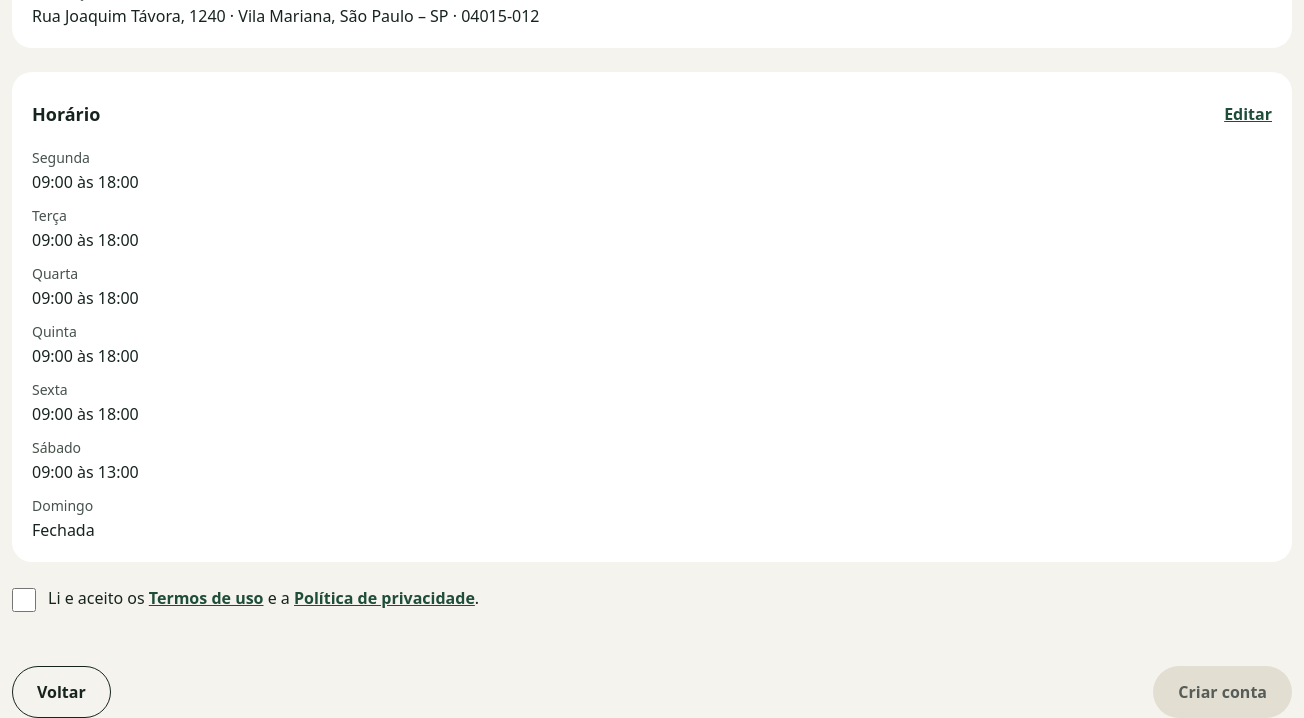
StepReview › DEMO-20: demo desligada → sem a caixa da demo, e só os Termos liberam "Criar conta"
(page scrolled)
Click the checkbox named "Li e aceito os Termos de uso e a Política de privacidade." at coordinates (24, 600), box [12,588,36,612]
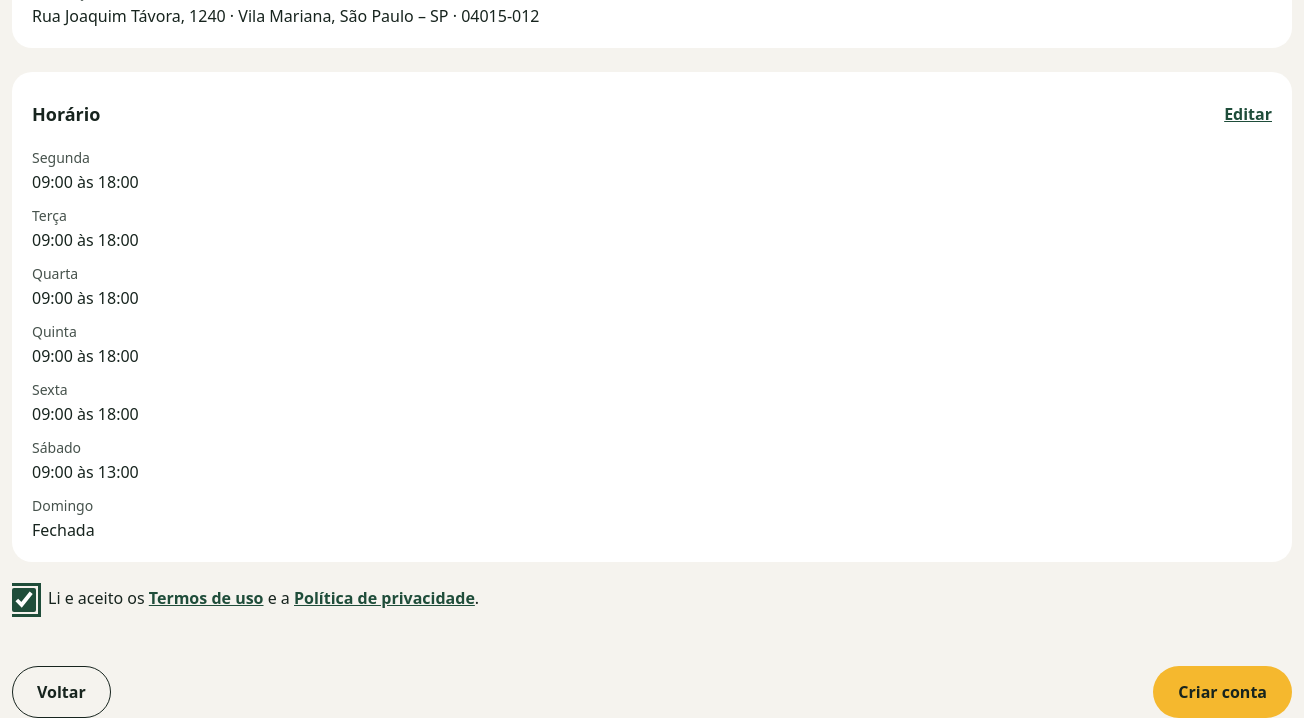
Now the button "Criar conta" is enabled, box [1153,666,1292,717]
